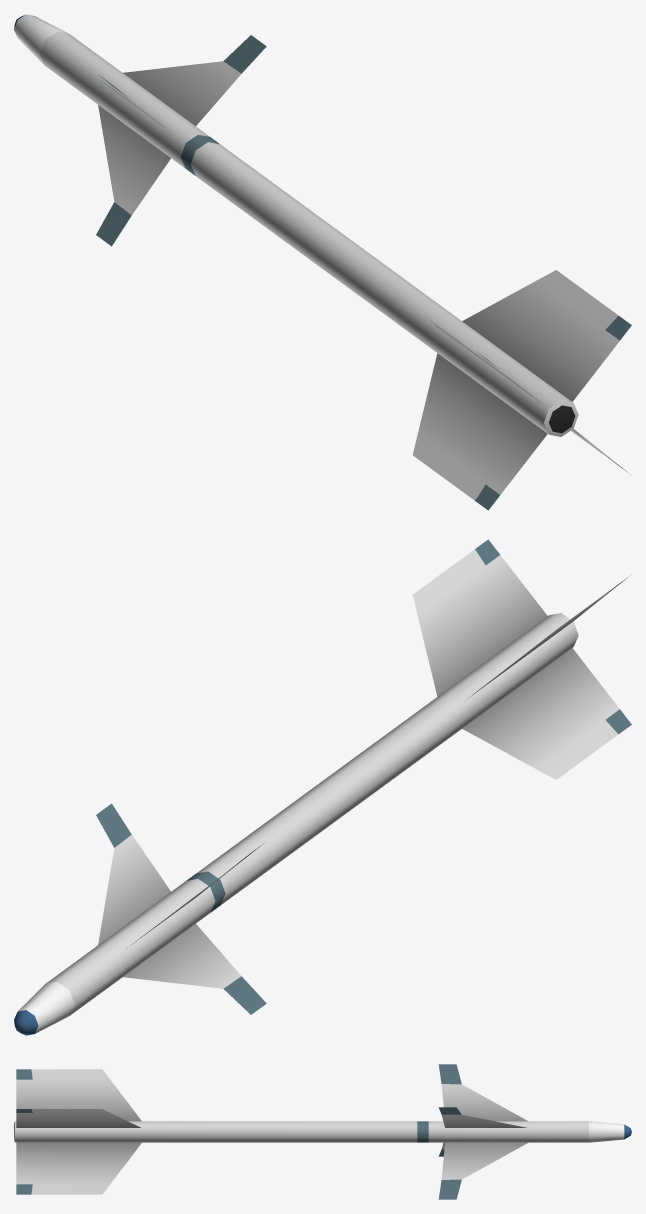
Rendered from aam_aim9.glb.
3 views of the same model, one above another, from view 1: azimuth 30°, elevation 25°; view 2: azimuth 150°, elevation 25°; view 3: azimuth 270°, elevation 25° (orthographic). The views are drawn at different scales.
Parts seen in each view (by area): view 1: body|silver_metal, body|blue, body|white; view 2: body|silver_metal, body|blue, body|white; view 3: body|silver_metal, body|blue, body|white.
Boxes of the visible parts, x1,y1,x2,y2 form: body|silver_metal: [40, 31, 619, 500]; body|blue: [96, 35, 631, 510]; body|white: [14, 14, 68, 64]; body|silver_metal: [45, 549, 619, 1015]; body|blue: [96, 539, 631, 1014]; body|white: [18, 982, 74, 1033]; body|silver_metal: [14, 1069, 588, 1194]; body|blue: [16, 1064, 461, 1199]; body|white: [589, 1121, 624, 1142].
Bounding box in the file's own units: 0.4705 × 0.4705 × 2.85.
